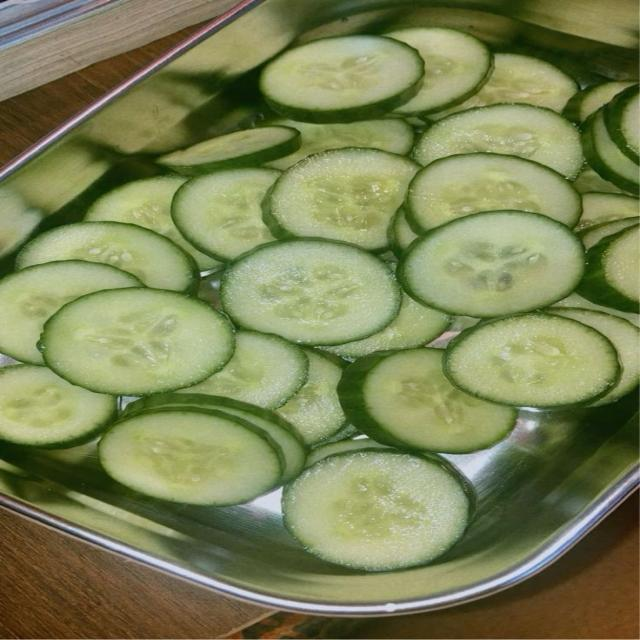cucumber sliced: (282, 450, 470, 571), (41, 288, 234, 395), (398, 211, 584, 317), (220, 239, 401, 345), (339, 348, 516, 453), (99, 409, 280, 505), (444, 314, 619, 407), (124, 394, 306, 482), (265, 148, 419, 251), (0, 261, 141, 365), (260, 35, 424, 122), (407, 153, 581, 230), (414, 104, 583, 178), (85, 177, 219, 270), (16, 222, 196, 291), (172, 168, 279, 262), (427, 53, 578, 119), (180, 331, 308, 408), (0, 365, 115, 448), (386, 27, 493, 114), (547, 308, 639, 406), (323, 295, 453, 358), (266, 118, 414, 170), (157, 126, 300, 175), (277, 350, 346, 444), (578, 224, 639, 313), (582, 108, 639, 195), (580, 199, 640, 250), (563, 81, 635, 123), (0, 187, 42, 257), (554, 293, 639, 326), (604, 84, 639, 164), (305, 438, 390, 467), (575, 193, 639, 230), (388, 207, 417, 258), (574, 165, 623, 193), (314, 424, 359, 447)
